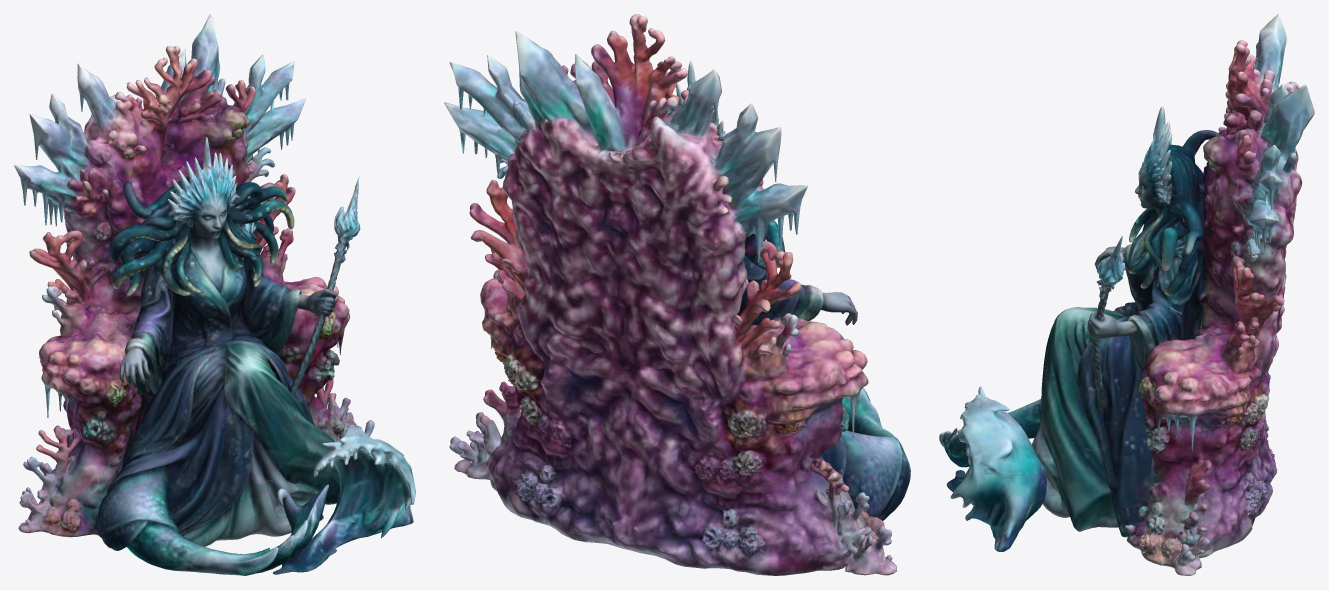
The model's file is mini_tc18.glb.
3 renders of one model, left to right at view 1: azimuth 30°, elevation 25°; view 2: azimuth 150°, elevation 25°; view 3: azimuth 270°, elevation 25°, orthographic. The views are drawn at different scales.
Size of the model in its own units: 1.67 by 1.9 by 1.45.
Materials: 1 (1 with a texture image).
